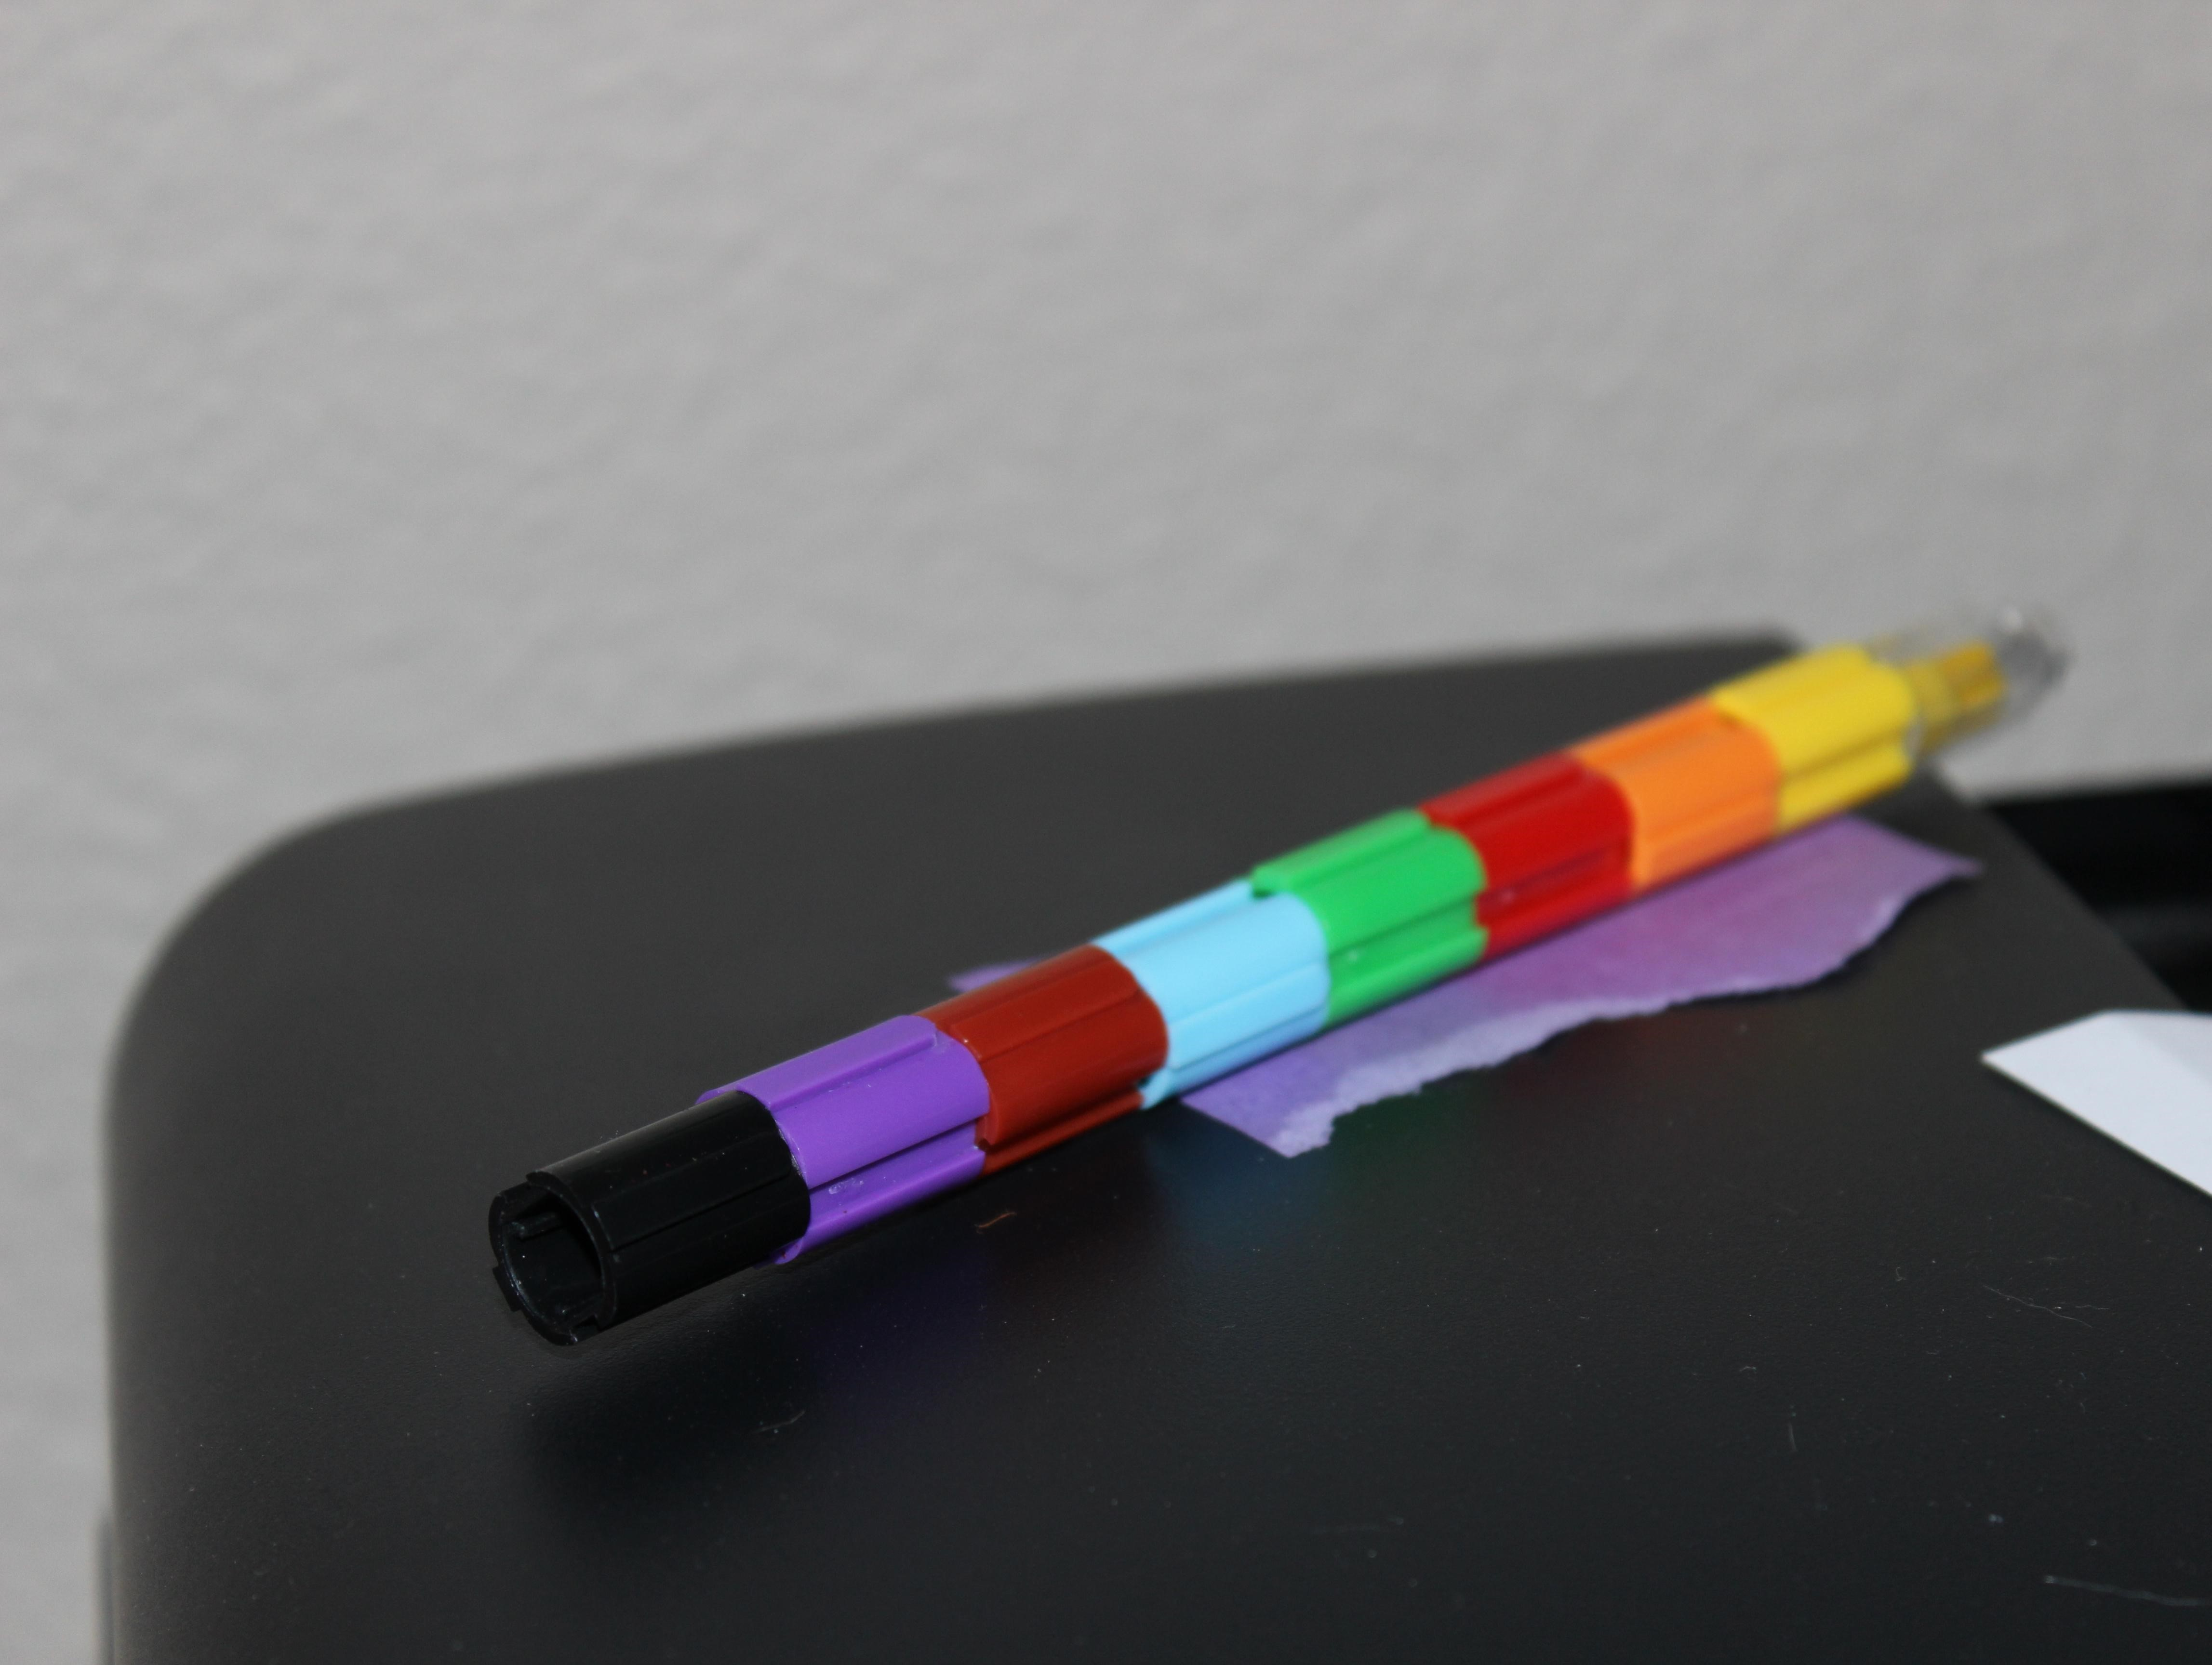rainbowPens: (442, 560, 2111, 1394)
